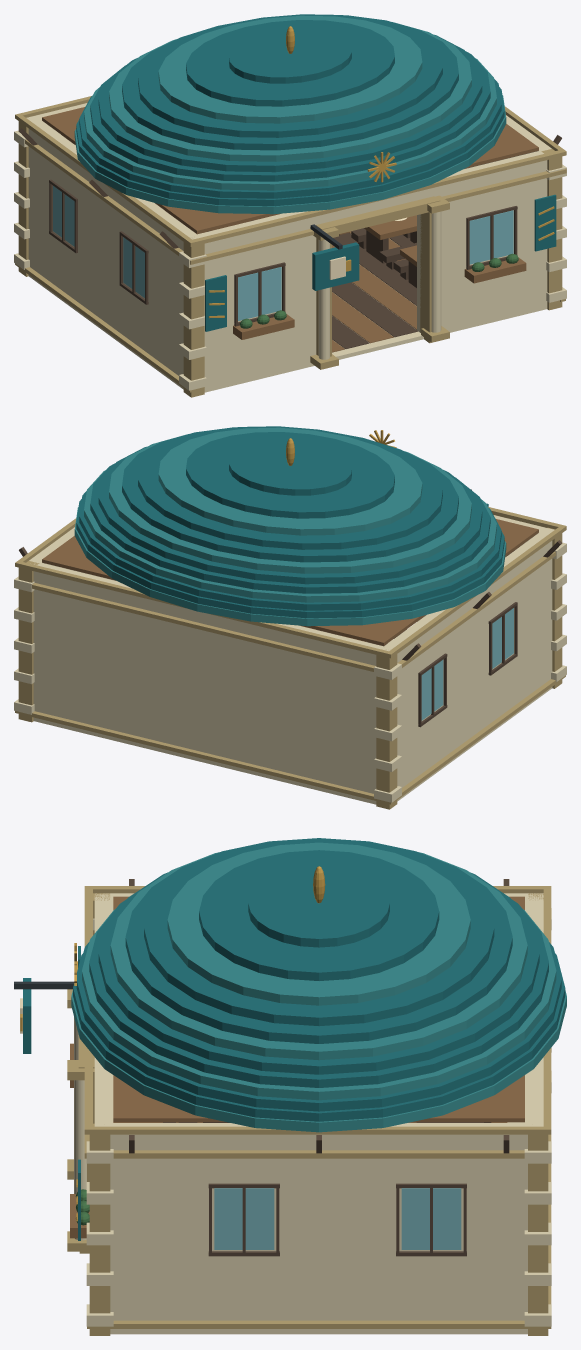
File: Tavern.glb
3 views of the same model, one above another, from view 1: azimuth 30°, elevation 25°; view 2: azimuth 150°, elevation 25°; view 3: azimuth 270°, elevation 25° (orthographic). The views are drawn at different scales.
Parts seen in each view (by area): view 1: Tavern_002_Side, Tavern_040_FrontWing, Tavern_003_FrontWing, Tavern_264_HarborDome, Tavern_263_HarborDome, Tavern_262_HarborDome, Tavern_261_HarborDome, Tavern_260_HarborDome, Tavern_259_HarborDome, Tavern_265_HarborDome, Tavern_258_HarborDome, Tavern_257_HarborDome (+34 smaller); view 2: Tavern_001_Rear, Tavern_002_Side, Tavern_264_HarborDome, Tavern_263_HarborDome, Tavern_262_HarborDome, Tavern_261_HarborDome, Tavern_260_HarborDome, Tavern_259_HarborDome, Tavern_265_HarborDome, Tavern_258_HarborDome, Tavern_257_HarborDome, Tavern_256_HarborDome (+18 smaller); view 3: Tavern_039_Side, Tavern_264_HarborDome, Tavern_263_HarborDome, Tavern_262_HarborDome, Tavern_261_HarborDome, Tavern_260_HarborDome, Tavern_259_HarborDome, Tavern_265_HarborDome, Tavern_258_HarborDome, Tavern_257_HarborDome, Tavern_256_HarborDome, Tavern_255_HarborDome (+17 smaller).
Part boxes in pixels (<box>): Tavern_002_Side: <box>28,121,197,387</box>; Tavern_040_FrontWing: <box>417,148,551,332</box>; Tavern_003_FrontWing: <box>189,211,326,388</box>; Tavern_264_HarborDome: <box>186,20,394,106</box>; Tavern_263_HarborDome: <box>158,15,422,123</box>; Tavern_262_HarborDome: <box>138,14,442,137</box>; Tavern_261_HarborDome: <box>122,15,458,150</box>; Tavern_260_HarborDome: <box>109,22,471,161</box>; Tavern_259_HarborDome: <box>98,34,482,172</box>; Tavern_265_HarborDome: <box>229,30,351,83</box>; Tavern_258_HarborDome: <box>90,51,490,181</box>; Tavern_257_HarborDome: <box>84,58,496,190</box>; Tavern_001_Rear: <box>29,560,392,803</box>; Tavern_002_Side: <box>384,533,552,799</box>; Tavern_264_HarborDome: <box>186,432,394,518</box>; Tavern_263_HarborDome: <box>158,427,422,535</box>; Tavern_262_HarborDome: <box>138,426,442,549</box>; Tavern_261_HarborDome: <box>122,427,458,562</box>; Tavern_260_HarborDome: <box>109,434,471,573</box>; Tavern_259_HarborDome: <box>98,446,482,584</box>; Tavern_265_HarborDome: <box>229,442,351,495</box>; Tavern_258_HarborDome: <box>90,463,490,593</box>; Tavern_257_HarborDome: <box>84,470,496,602</box>; Tavern_256_HarborDome: <box>79,491,501,610</box>; Tavern_039_Side: <box>106,1123,527,1334</box>; Tavern_264_HarborDome: <box>199,850,439,980</box>; Tavern_263_HarborDome: <box>167,842,470,1005</box>; Tavern_262_HarborDome: <box>144,839,494,1026</box>; Tavern_261_HarborDome: <box>125,838,512,1043</box>; Tavern_260_HarborDome: <box>110,852,527,1060</box>; Tavern_259_HarborDome: <box>98,872,539,1074</box>; Tavern_265_HarborDome: <box>248,867,389,947</box>; Tavern_258_HarborDome: <box>89,899,548,1087</box>; Tavern_257_HarborDome: <box>82,909,556,1100</box>; Tavern_256_HarborDome: <box>76,942,561,1111</box>; Tavern_255_HarborDome: <box>73,953,565,1121</box>.
Bounding box in the file's own units: 32.83 × 20.6 × 29.54.
